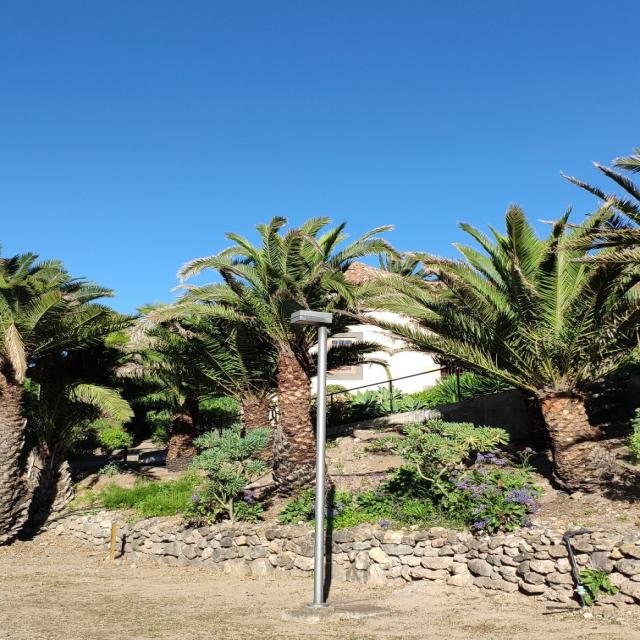Palm-Trees: (358, 204, 640, 493), (171, 212, 404, 502)
